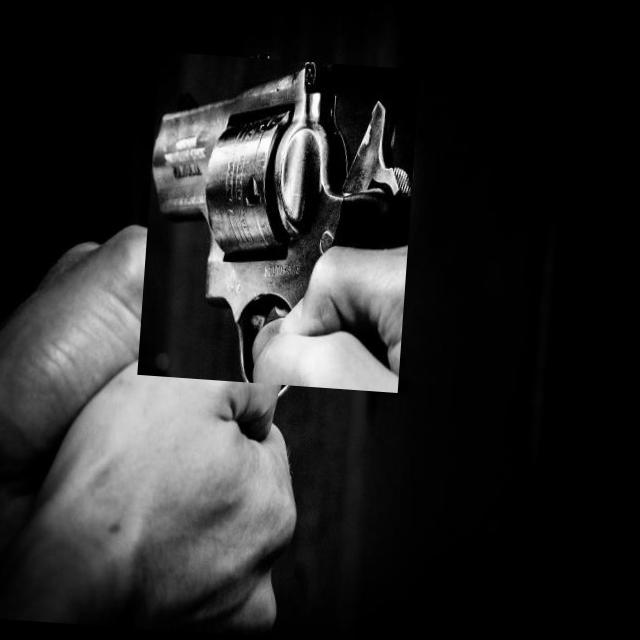Gun: (152, 63, 411, 382)
